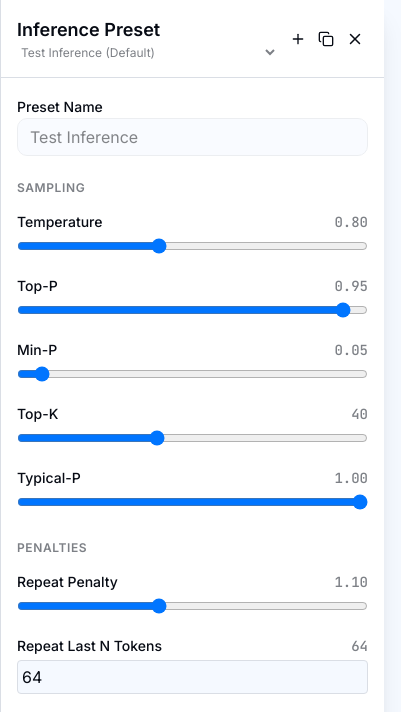
Preset Editors Integration › InferencePresetEditor: renders sampling parameters and handles changes
The width and height of the screenshot is (401, 712).
# Verify change updates local state (the value on screen)
Set the slider labelled "Temperature 0.80" to "1.2". click: x=226, y=246
box: [17, 238, 368, 254]
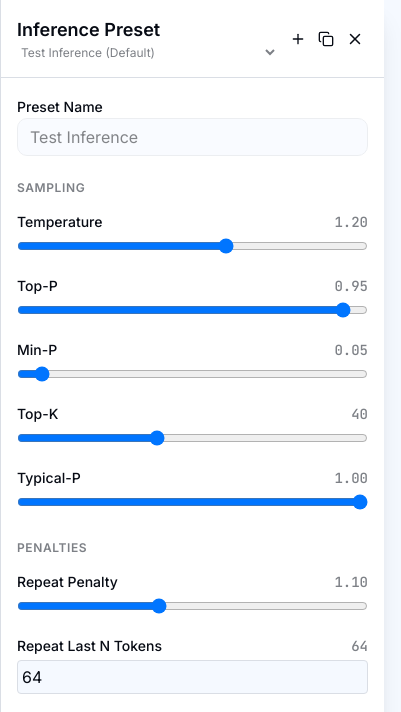
Now the text "1.20" is shown, box [334, 212, 368, 232]
